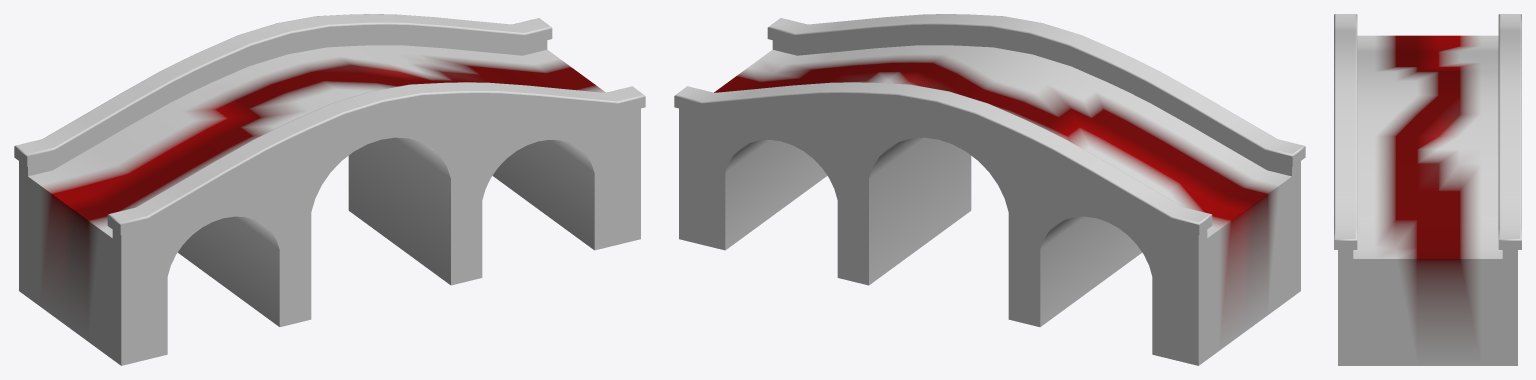
The model's file is bridge_vertexpaintTest.fbx.
The picture shows the model from 3 angles, left to right: view 1: azimuth 30°, elevation 25°; view 2: azimuth 150°, elevation 25°; view 3: azimuth 270°, elevation 25°; orthographic projection. The views are drawn at different scales.
Parts seen in each view (by area): view 1: Cube; view 2: Cube; view 3: Cube.
Part boxes in pixels (left/top/right/bottom): Cube: left=14, top=14, right=645, bottom=365; Cube: left=674, top=14, right=1305, bottom=365; Cube: left=1334, top=14, right=1521, bottom=365.
Bounding box in the file's own units: 1212 × 449 × 426.
